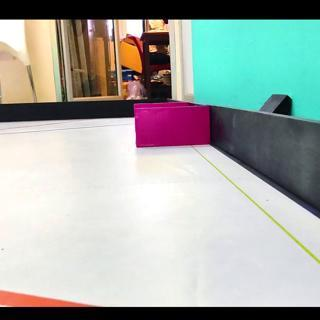xparking: (136, 110, 205, 146)
